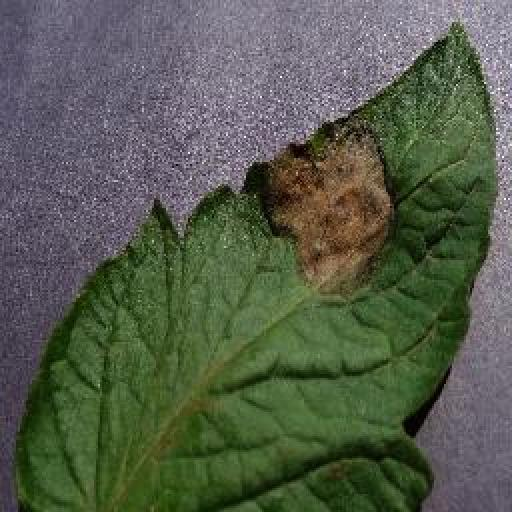disease_tomato: (8, 14, 498, 512)
